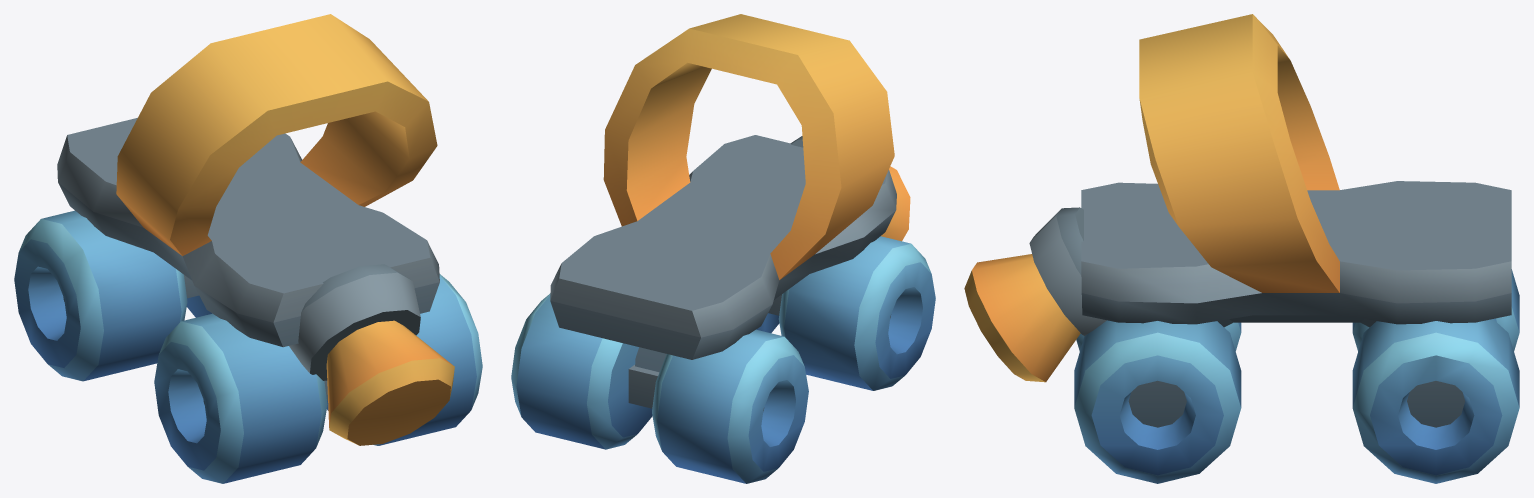
Rendered from rollerskate_B.fbx.
The picture shows the model from 3 angles, left to right: view 1: azimuth 30°, elevation 25°; view 2: azimuth 150°, elevation 25°; view 3: azimuth 270°, elevation 25°; orthographic projection. The views are drawn at different scales.
Parts seen in each view (by area): view 1: rollerskate_B; view 2: rollerskate_B; view 3: rollerskate_B.
Part boxes in pixels (box(x1,y1,x2,y2)): rollerskate_B: box(14, 14, 482, 483); rollerskate_B: box(511, 14, 935, 483); rollerskate_B: box(964, 14, 1519, 483).
Size of the model in its own units: 27 by 38.1 by 49.87.
